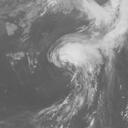cyclone: (47, 1, 127, 125)
